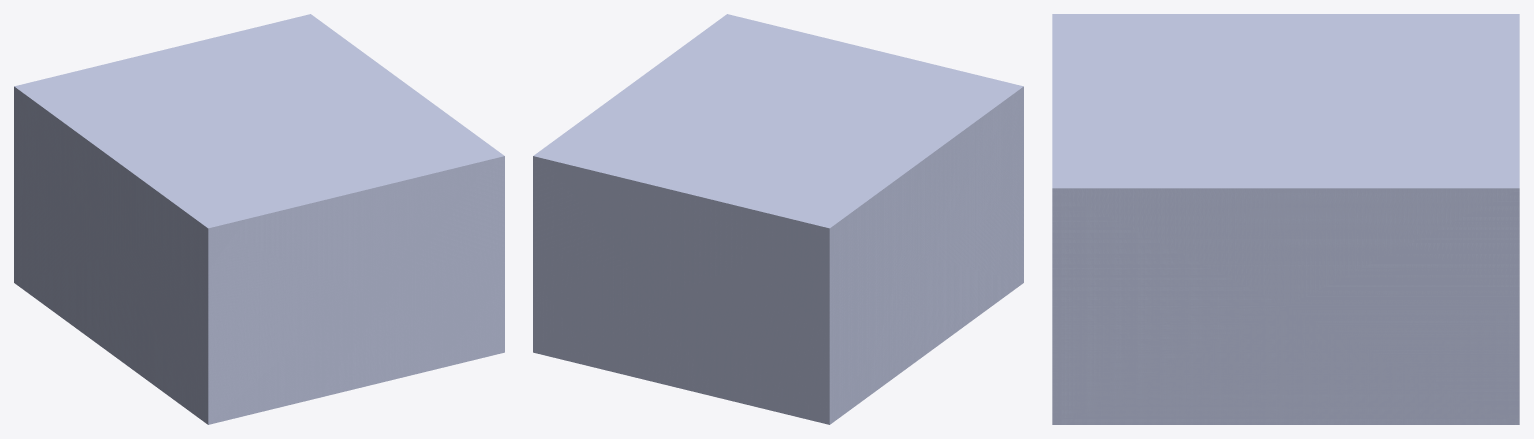
3 renders of one model, left to right at view 1: azimuth 30°, elevation 25°; view 2: azimuth 150°, elevation 25°; view 3: azimuth 270°, elevation 25°, orthographic. The views are drawn at different scales.
Visible parts, largest first — view 1: color-14-2, color-14-1-1, color-2, color-1-1-1-1-1; view 2: color-14-1-2, color-14-2, color-14-1-1, color-1-1-1-2, color-1-1-1-1-1; view 3: color-14-2, color-2.
Part boxes in pixels (x1,y1,x2,y2): color-14-2: [14, 14, 504, 424]; color-14-1-1: [14, 86, 208, 424]; color-2: [208, 156, 504, 424]; color-1-1-1-1-1: [14, 87, 208, 423]; color-14-1-2: [533, 156, 829, 424]; color-14-2: [533, 14, 1023, 228]; color-14-1-1: [829, 86, 1023, 424]; color-1-1-1-2: [533, 156, 829, 424]; color-1-1-1-1-1: [829, 87, 1023, 423]; color-14-2: [1052, 14, 1519, 424]; color-2: [1052, 188, 1519, 424].
Size of the model in its own units: 4.36 by 2.76 by 4.94.
